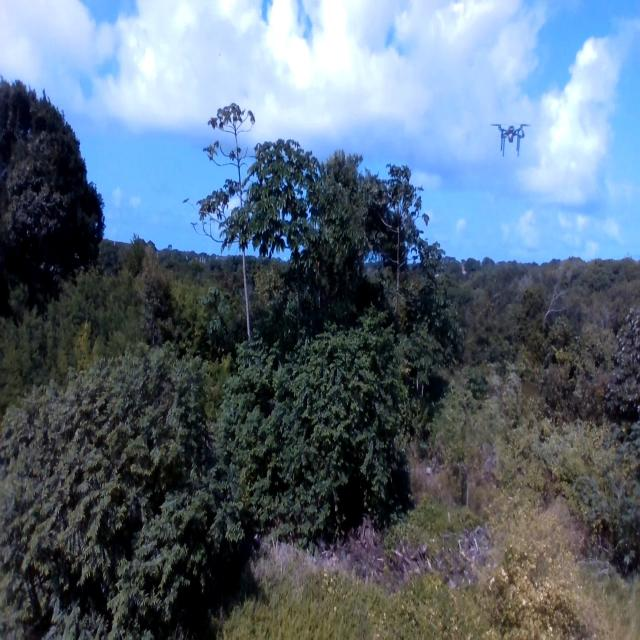-uav-: (484, 116, 538, 164)
